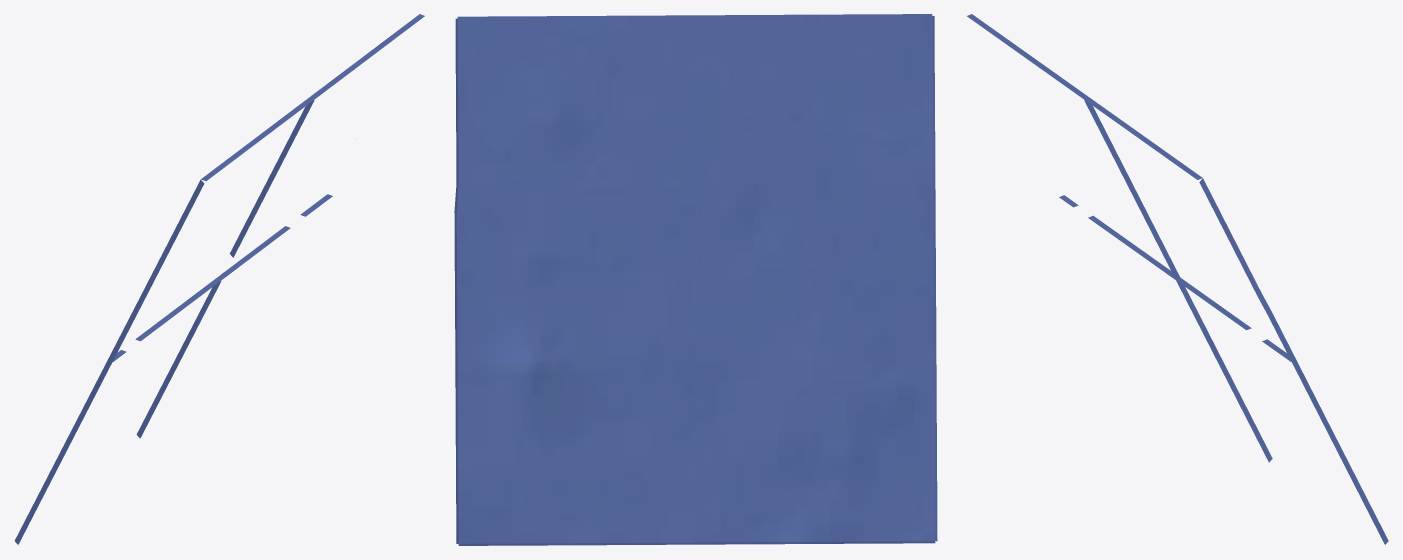
The picture shows the model from 3 angles, left to right: view 1: azimuth 30°, elevation 25°; view 2: azimuth 150°, elevation 25°; view 3: azimuth 270°, elevation 25°; orthographic projection. The views are drawn at different scales.
Size of the model in its own units: 39431 by 35725 by 33147.
1 material, 1 textured.
